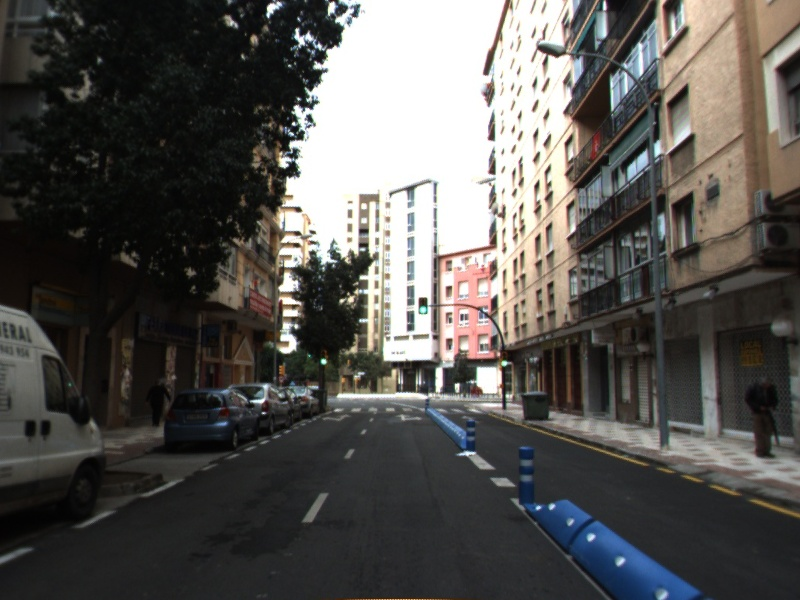STRAIGHT_LEFT: (320, 412, 353, 423)
STRAIGHT_RIGHT: (393, 412, 425, 423)
